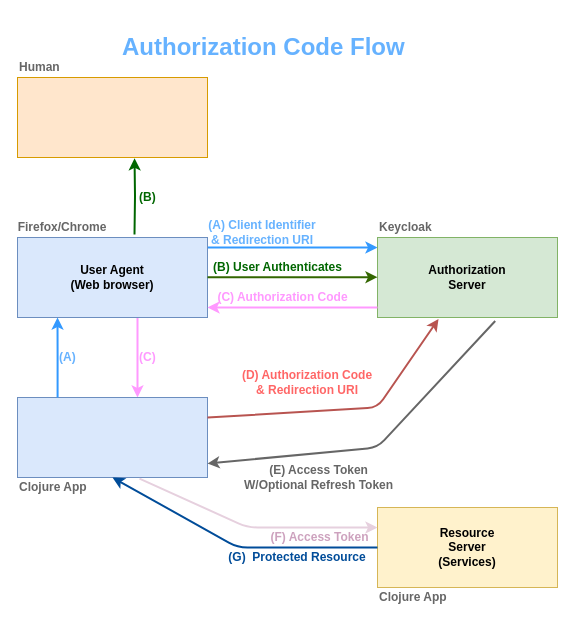
The diagram is 575 pixels wide and 624 high, and some of its shapes have lost their labels. The shapes that lost their labels are listed below. From the top down, each one's box as (x1, y1, x2, y2) in pixels, then its label:
(16, 76, 208, 158): Resource Owner
(16, 396, 208, 478): Client (Web server)
